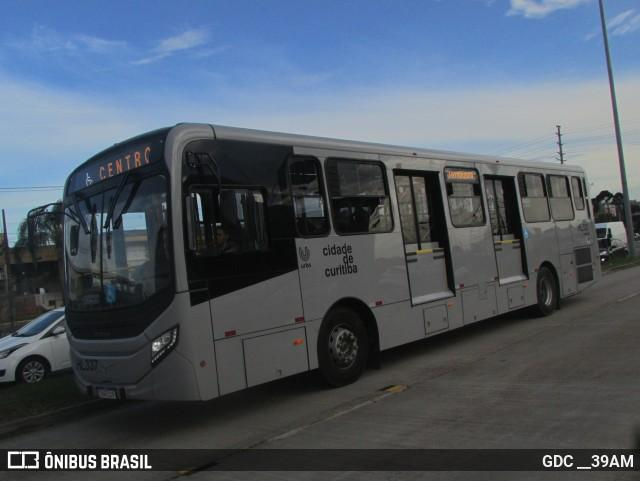CENTRO: (93, 143, 155, 183)
